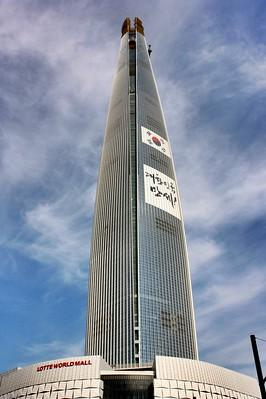building: (81, 10, 201, 364)
